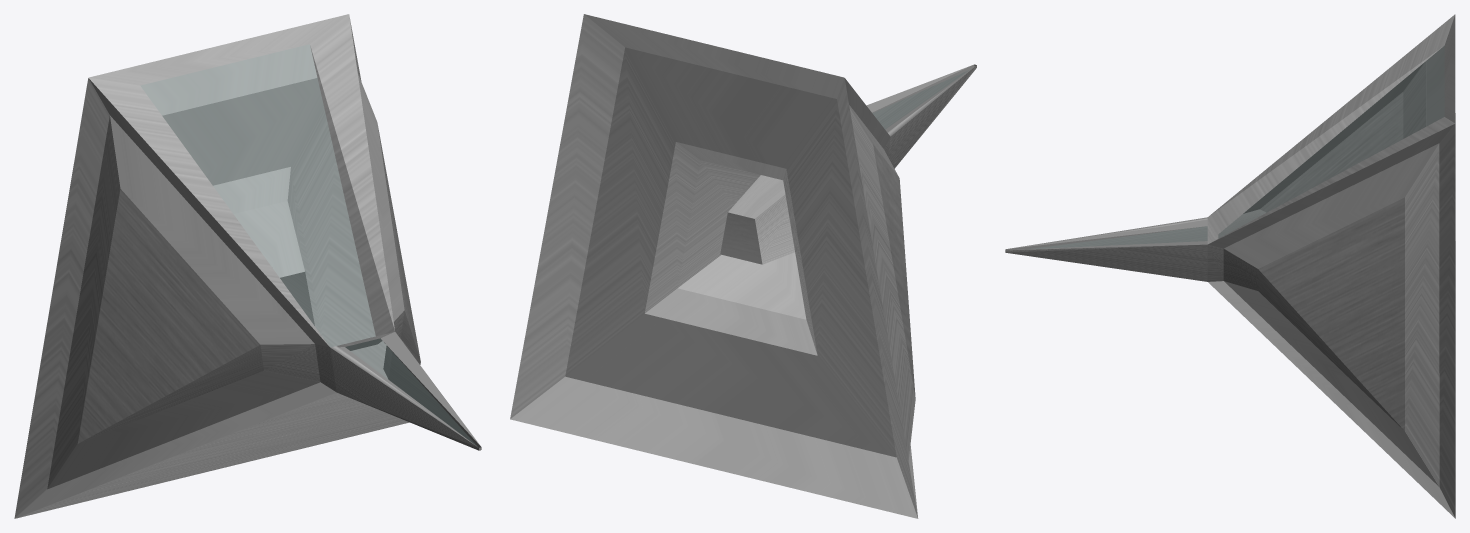
Rendered from Laser_Shooter.fbx.
3 views of the same model, side by side, from view 1: azimuth 30°, elevation 25°; view 2: azimuth 150°, elevation 25°; view 3: azimuth 270°, elevation 25° (orthographic). The views are drawn at different scales.
Parts seen in each view (by area): view 1: pCube7; view 2: pCube7; view 3: pCube7.
Part boxes in pixels (x1,y1,x2,y2): pCube7: (14,14,481,518); pCube7: (510,14,976,518); pCube7: (1005,14,1455,518).
Size of the model in its own units: 2.47 by 2.45 by 2.74.
2 materials, 1 textured.
